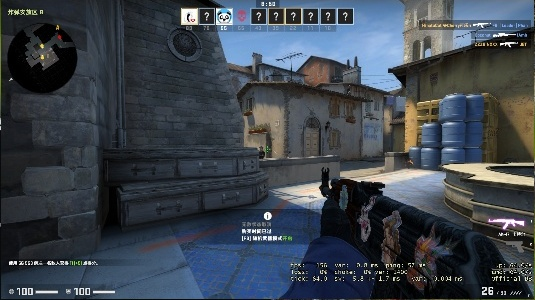body: (256, 145, 266, 160)
head: (257, 145, 264, 152)
